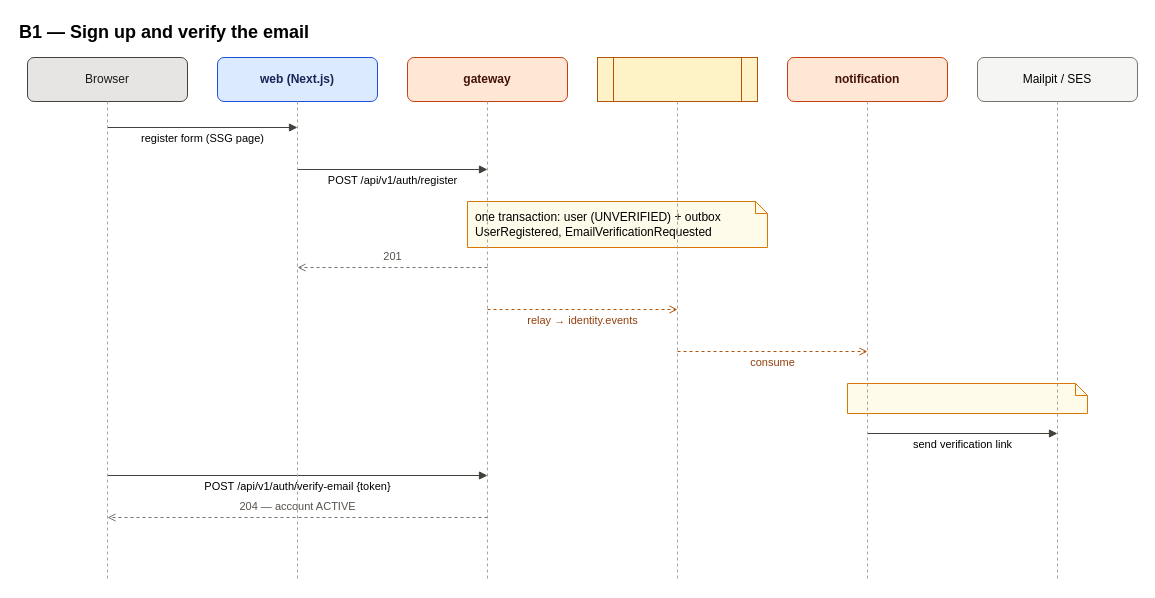
The diagram is 1155 pixels wide and 598 high, and some of its shapes have lost their labels. The centre of each missing label's shape, as x and y in pixels:
"contact + email queued (idempotent)" belongs at (967,398).
"Kafka" belongs at (677,79).
